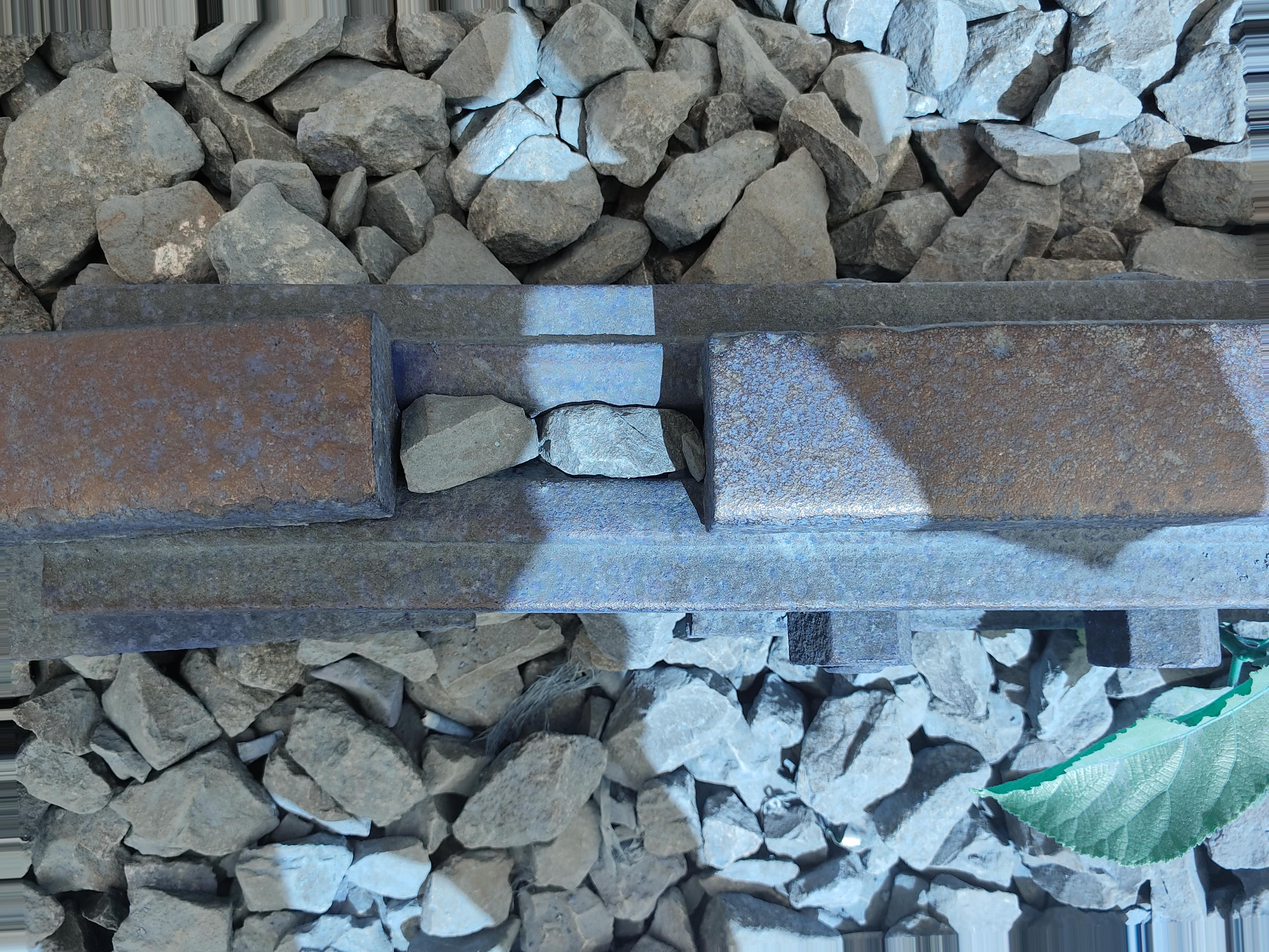tracks_fault: (311, 288, 816, 558)
